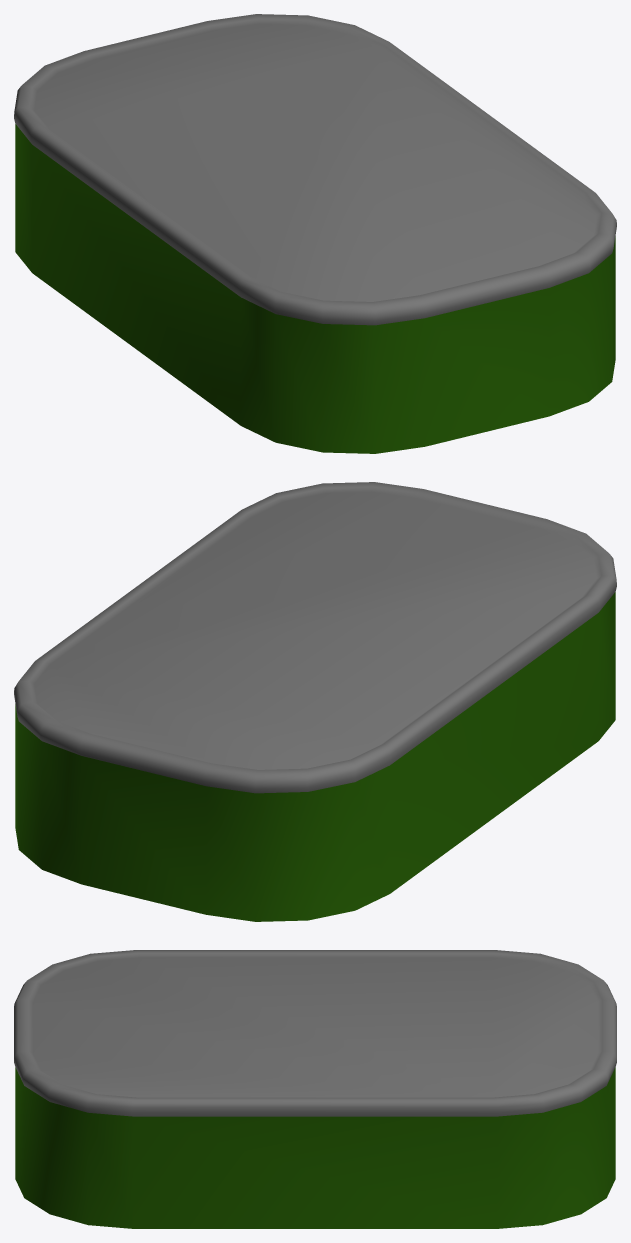
File: LataAtumFinal.fbx
The picture shows the model from 3 angles, top to bottom: view 1: azimuth 30°, elevation 25°; view 2: azimuth 150°, elevation 25°; view 3: azimuth 270°, elevation 25°; orthographic projection. The views are drawn at different scales.
Visible parts, largest first — view 1: Cube.002, Cube.001; view 2: Cube.002, Cube.001; view 3: Cube.002, Cube.001.
Boxes of the visible parts, x1,y1,x2,y2 form: Cube.002: (14, 14, 616, 325); Cube.001: (15, 124, 615, 453); Cube.002: (14, 482, 616, 793); Cube.001: (15, 592, 615, 921); Cube.002: (14, 950, 616, 1116); Cube.001: (15, 1067, 615, 1228).
Size of the model in its own units: 69.3 by 26.8 by 115.
